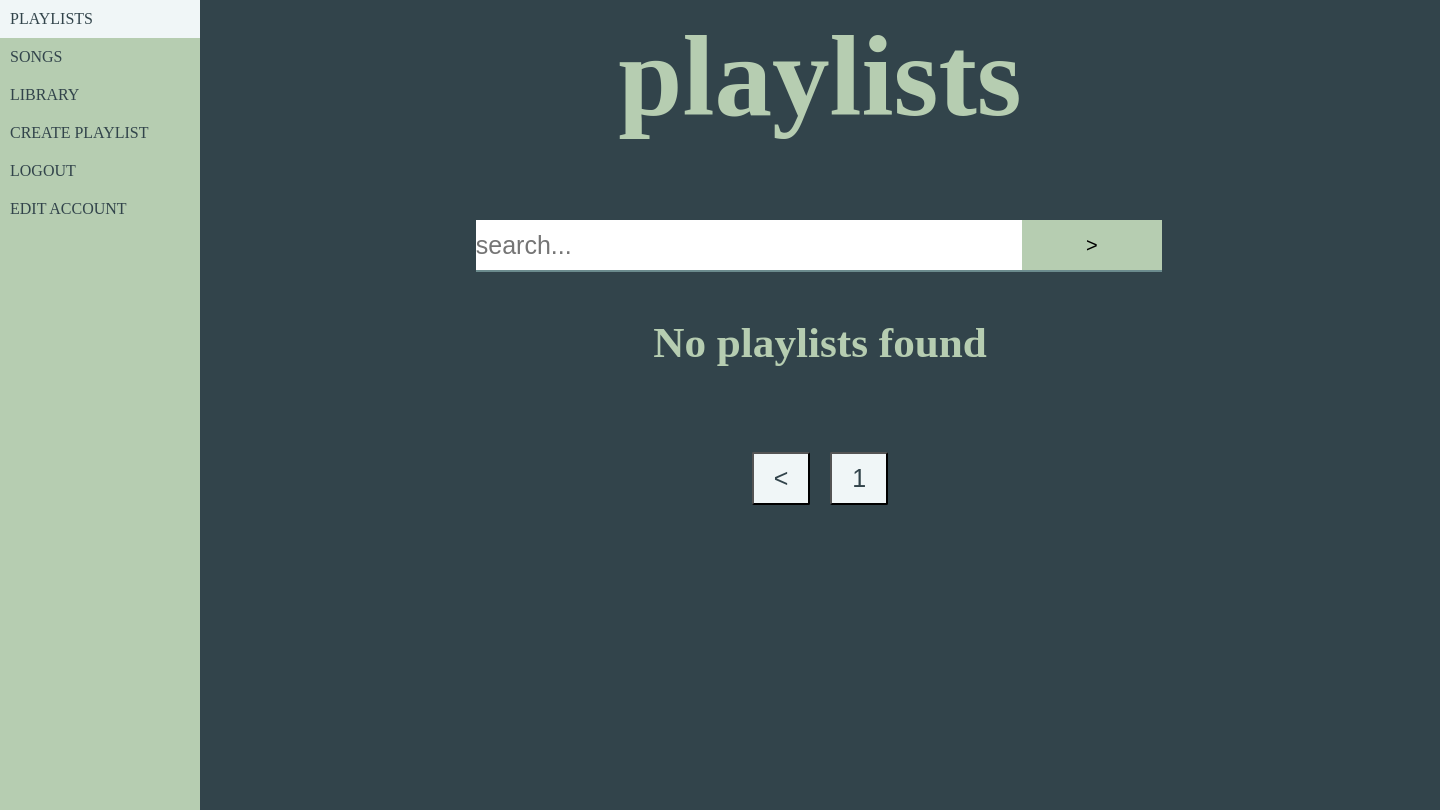
Test: tests main paga navigations
Type "3" into the field with placeholder "search..." at (749, 246), box x1=476 y1=220 x2=1022 y2=272
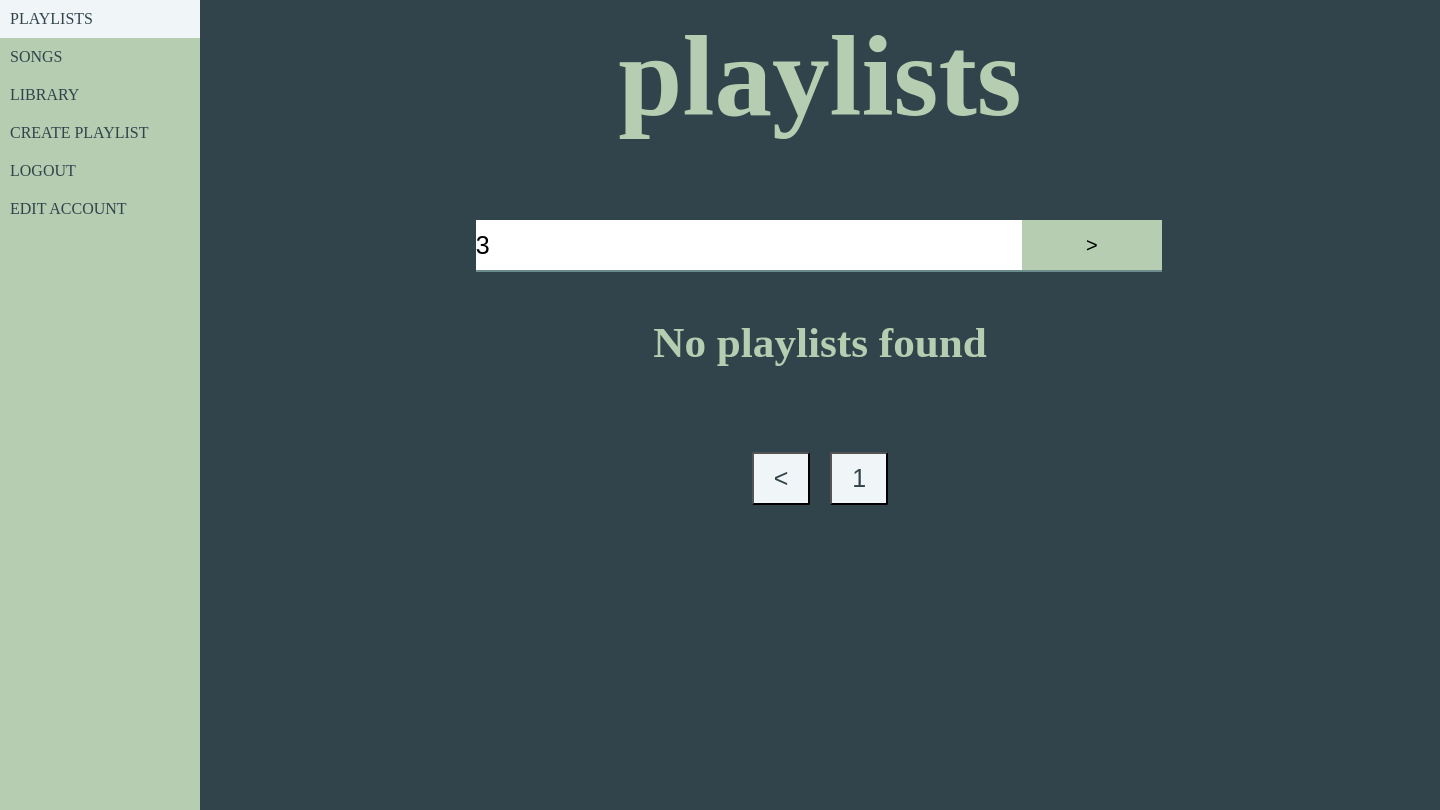
Click the button ">" at (1092, 246), box x1=1022 y1=220 x2=1162 y2=272
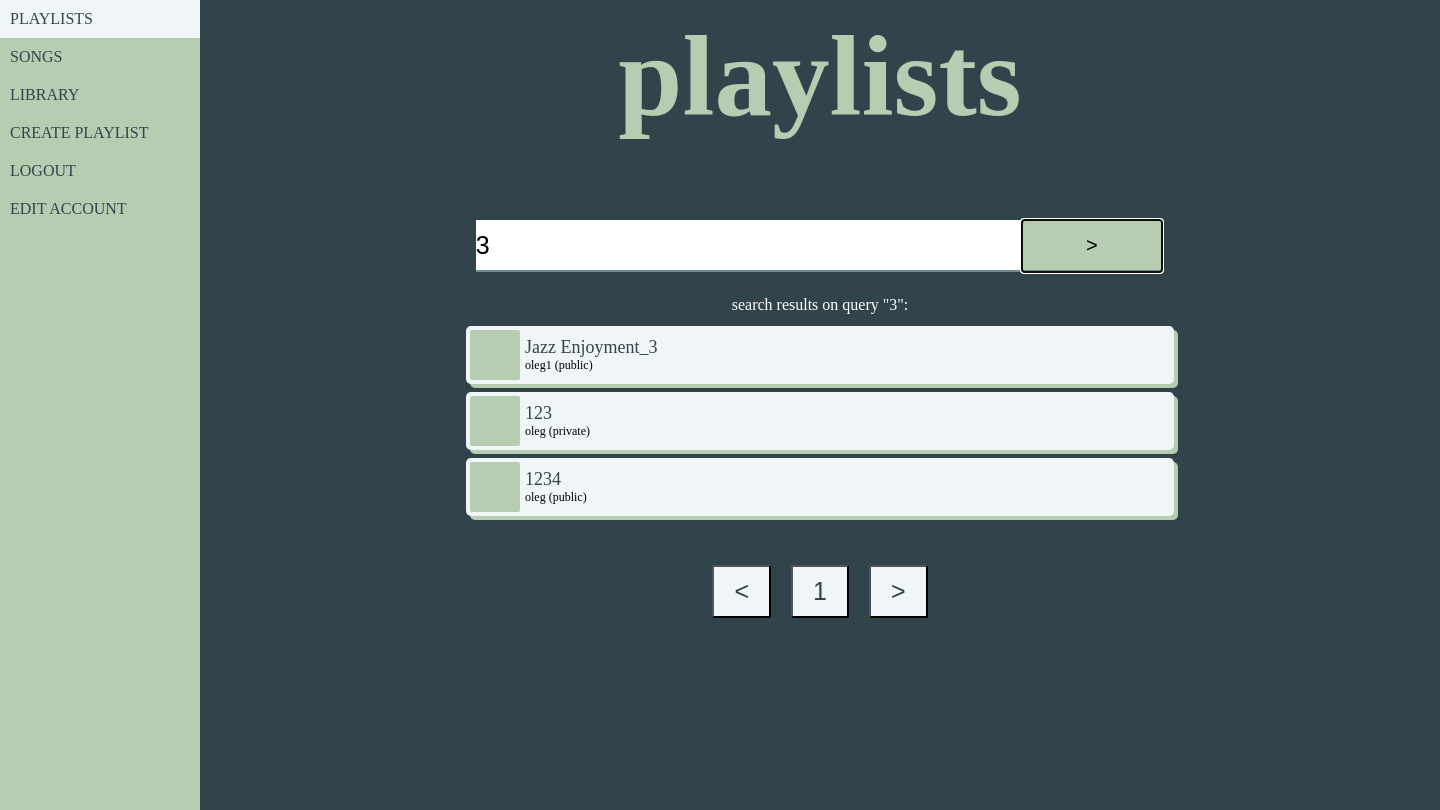
Click the button named "next-button" at (898, 592), box x1=869 y1=565 x2=928 y2=618
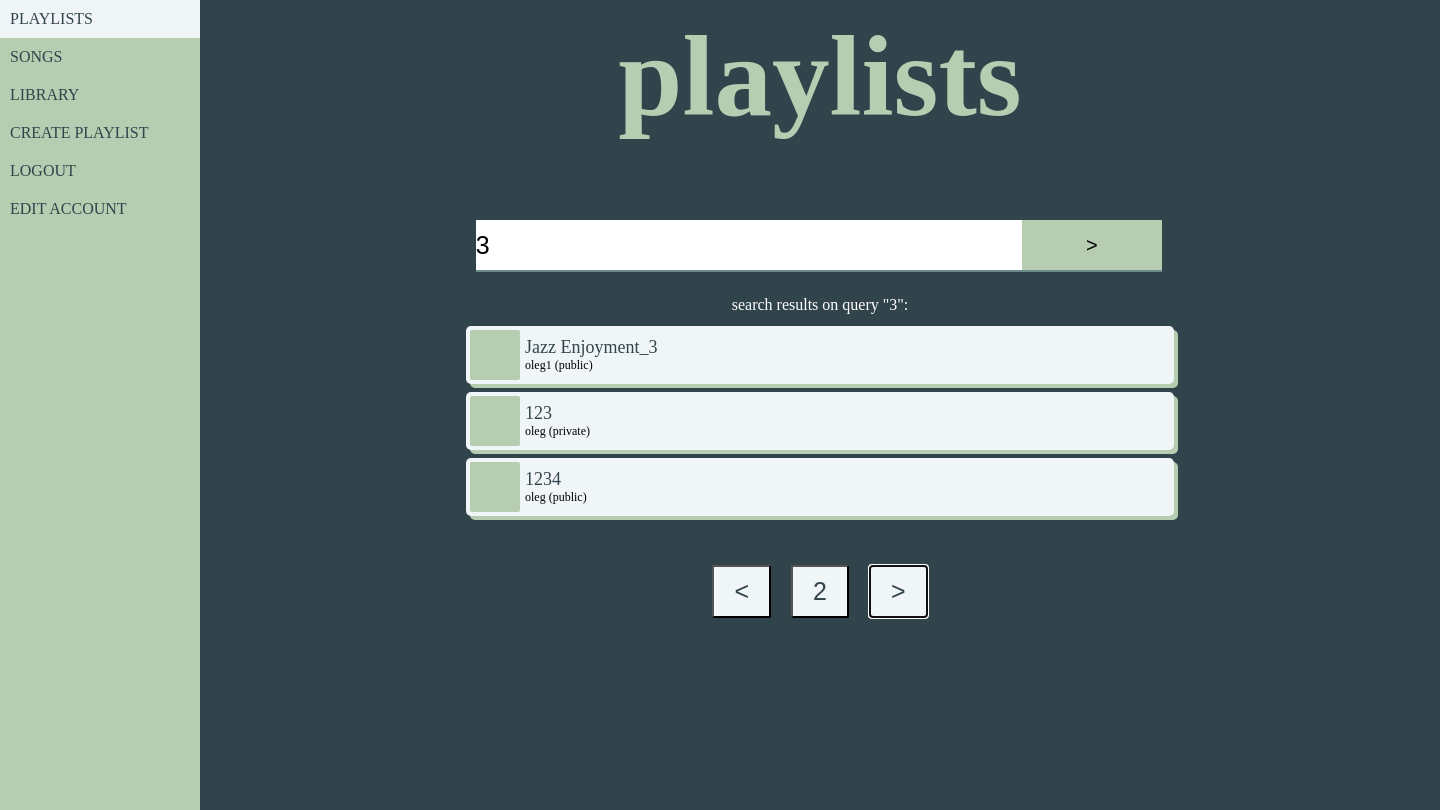
Expected: the button "2" is shown, x1=791 y1=565 x2=849 y2=618
Click the button "<" at (742, 592), box x1=712 y1=565 x2=771 y2=618
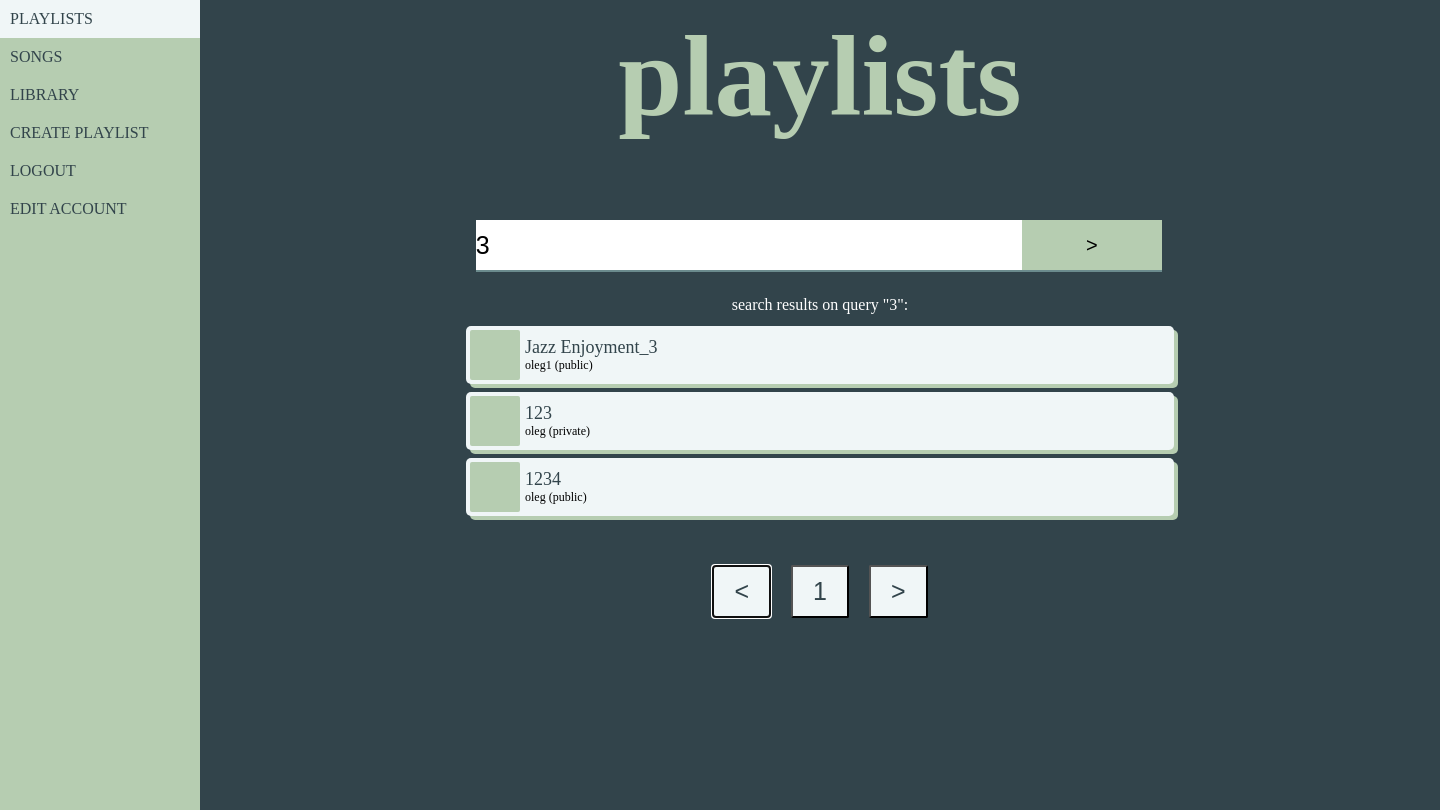
Expected: the button "1" is shown, x1=791 y1=565 x2=849 y2=618
